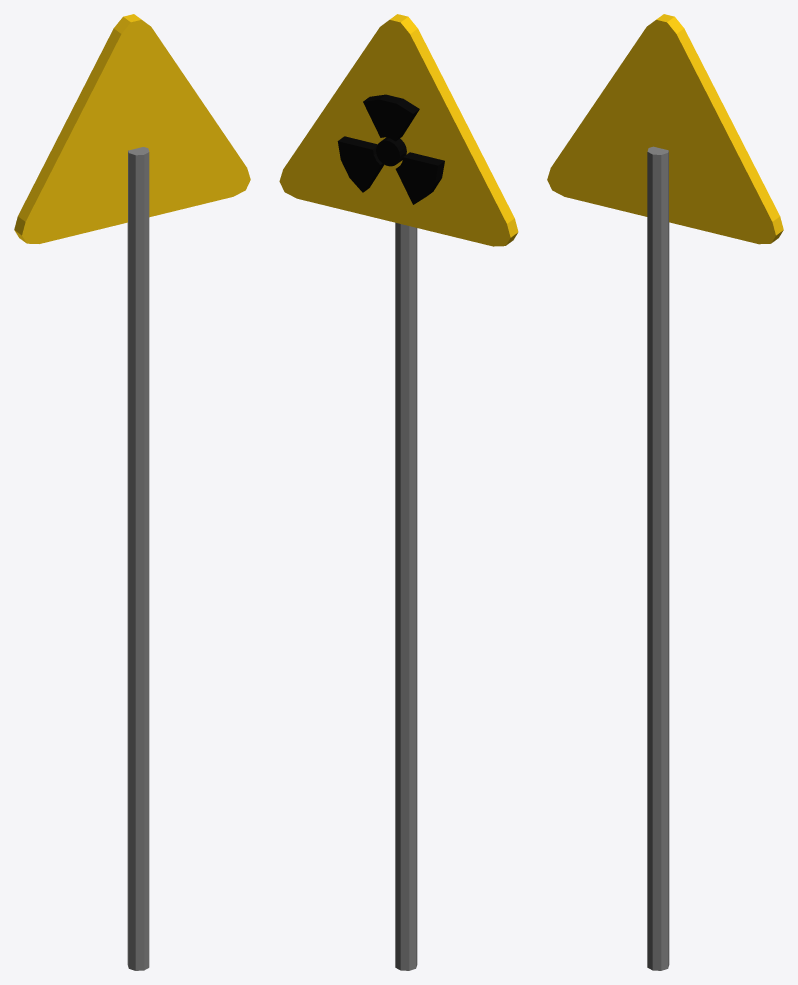
File: Sign.glb
The picture shows the model from 3 angles, left to right: view 1: azimuth 30°, elevation 25°; view 2: azimuth 150°, elevation 25°; view 3: azimuth 330°, elevation 25°; orthographic projection.
Parts seen in each view (by area): view 1: Container; view 2: Container; view 3: Container.
Part boxes in pixels (x1,y1,x2,y2): Container: (14,14,250,970); Container: (279,14,518,970); Container: (547,14,783,970).
Bounding box in the file's own units: 2.35 × 9.25 × 0.4101.
1 material, 1 textured.
